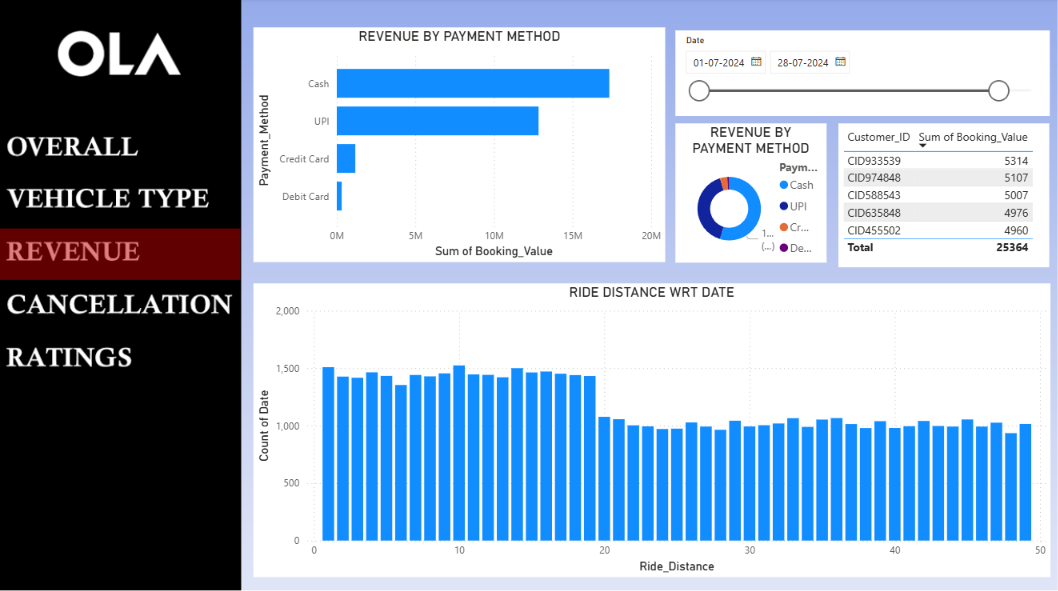

What the dashboard file says about the page in this screenshot:
{"tool":"powerbi","page":{"name":"revenue","canvas":[1280,720],"ordinal":2},"visuals":[{"type":"actionButton","box":[0,208.6,295,68.6],"z":0},{"type":"actionButton","box":[1.4,277.2,295,68.6],"z":1000},{"type":"actionButton","box":[1.4,336.2,295,68.6],"z":2000},{"type":"actionButton","box":[0,403.4,295,68.6],"z":3000},{"type":"actionButton","box":[0,141.3,295,68.6],"z":4000},{"type":"barChart","title":"REVENUE BY PAYMENT METHOD","fields":{"Y":["Sum(July.Booking_Value)"],"Category":["July.Payment_Method"]},"box":[307.6,35,497.1,283.5],"z":5000},{"type":"columnChart","title":"RIDE DISTANCE WRT DATE","fields":{"Category":["July.Ride_Distance"],"Y":["CountNonNull(July.Date)"]},"box":[307.1,344.3,961.4,354.3],"z":6000},{"type":"slicer","fields":{"Values":["July.Date"]},"box":[816.8,38.6,451.2,102.5],"z":7000},{"type":"tableEx","fields":{"Values":["July.Customer_ID","Sum(July.Booking_Value)"]},"box":[1013.4,150.8,254.6,173.7],"z":8000},{"type":"donutChart","title":"REVENUE BY PAYMENT METHOD","fields":{"Category":["July.Payment_Method"],"Y":["Sum(July.Booking_Value)"]},"box":[816.8,150.8,182.2,167.7],"z":9000}]}

Visuals, with their boxes in screenshot pixels (x1, y1, x2, y2), scaled from the page's 1280x720 canvas onto the 1058x591 screenshot:
actionButton: select_region(0, 171, 244, 228)
actionButton: select_region(1, 228, 245, 284)
actionButton: select_region(1, 276, 245, 332)
actionButton: select_region(0, 331, 244, 387)
actionButton: select_region(0, 116, 244, 172)
"REVENUE BY PAYMENT METHOD" barChart: select_region(254, 29, 665, 261)
"RIDE DISTANCE WRT DATE" columnChart: select_region(254, 283, 1048, 573)
slicer - July.Date: select_region(675, 32, 1048, 116)
tableEx - July.Customer_ID x Sum(July.Booking_Value): select_region(838, 124, 1048, 266)
"REVENUE BY PAYMENT METHOD" donutChart: select_region(675, 124, 826, 261)
